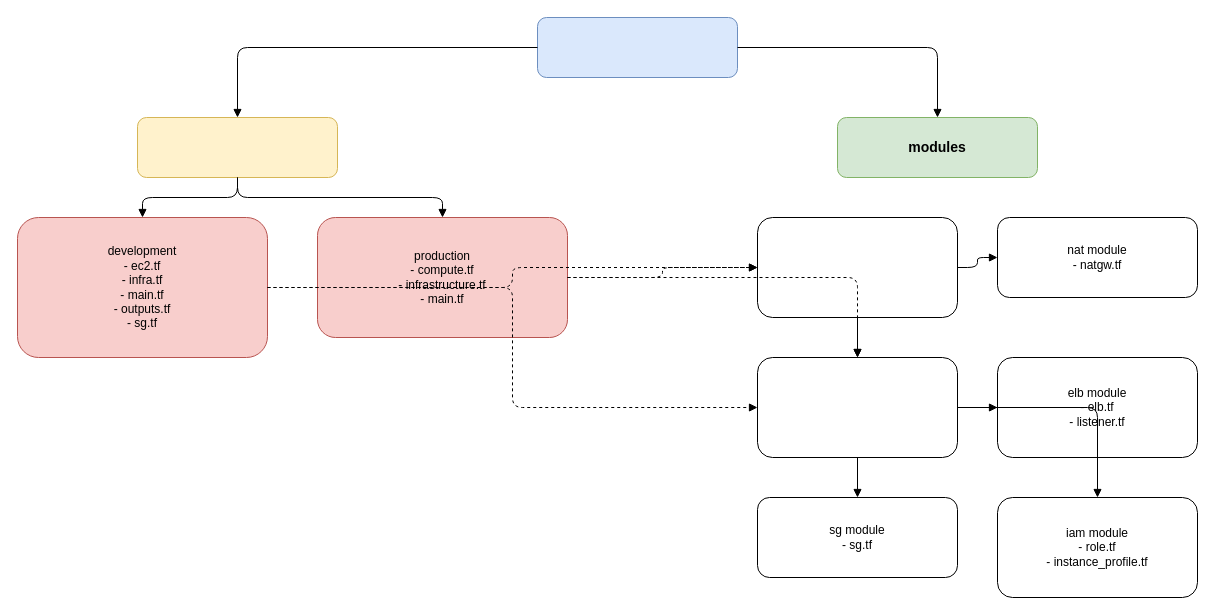
Image size: 1215x615. Some labels were removed from this diagram. The shapes that lost their labels are listed below. From the top down, each one's centre as x and y in pixels, then its label:
(x=637, y=47): terraform
(x=237, y=147): envs
(x=857, y=267): network module - vpc.tf - subnets - routing
(x=857, y=407): compute module - public_ec2.tf - private_ec2.tf
